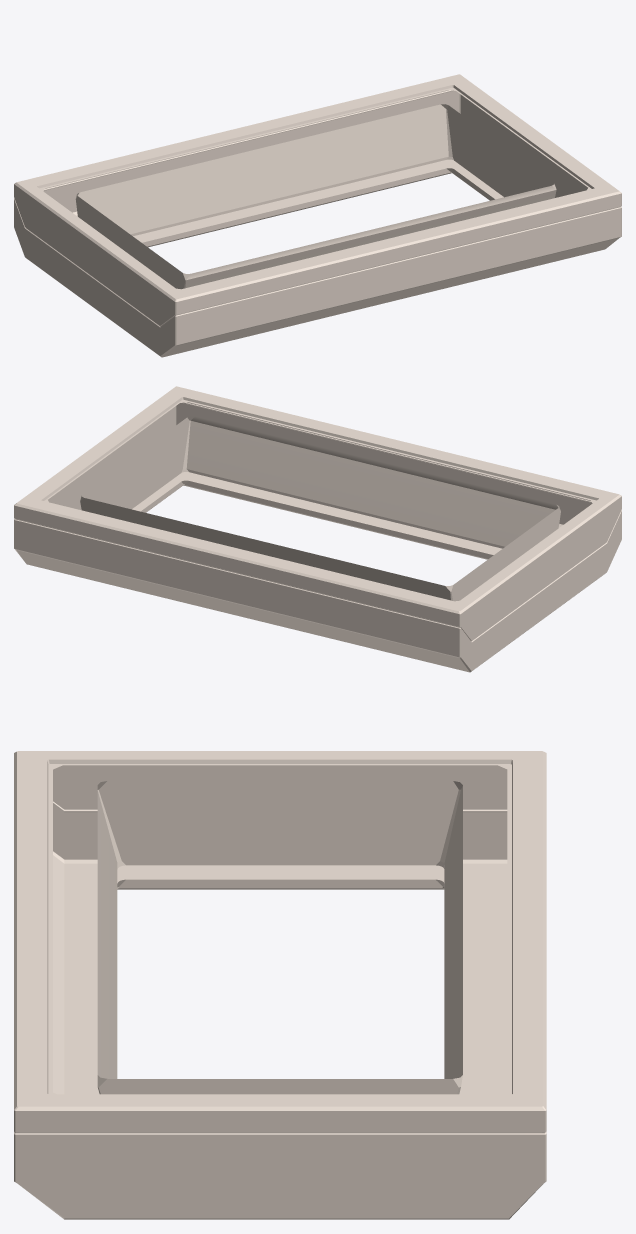
The model's file is DoormeshMicrowaveDoorB5_1_GeomSubset_0.obj.
3 renders of one model, top to bottom at view 1: azimuth 30°, elevation 25°; view 2: azimuth 150°, elevation 25°; view 3: azimuth 270°, elevation 25°, orthographic. The views are drawn at different scales.
Parts seen in each view (by area): view 1: DoormeshMicrowaveDoorB5_1_GeomSubset_0; view 2: DoormeshMicrowaveDoorB5_1_GeomSubset_0; view 3: DoormeshMicrowaveDoorB5_1_GeomSubset_0.
Part boxes in pixels (box(x1,y1,x2,y2)): DoormeshMicrowaveDoorB5_1_GeomSubset_0: box(14, 74, 621, 357); DoormeshMicrowaveDoorB5_1_GeomSubset_0: box(14, 386, 621, 672); DoormeshMicrowaveDoorB5_1_GeomSubset_0: box(14, 751, 546, 1219).
Bounding box in the file's own units: 0.4829 × 0.1849 × 0.3461.
